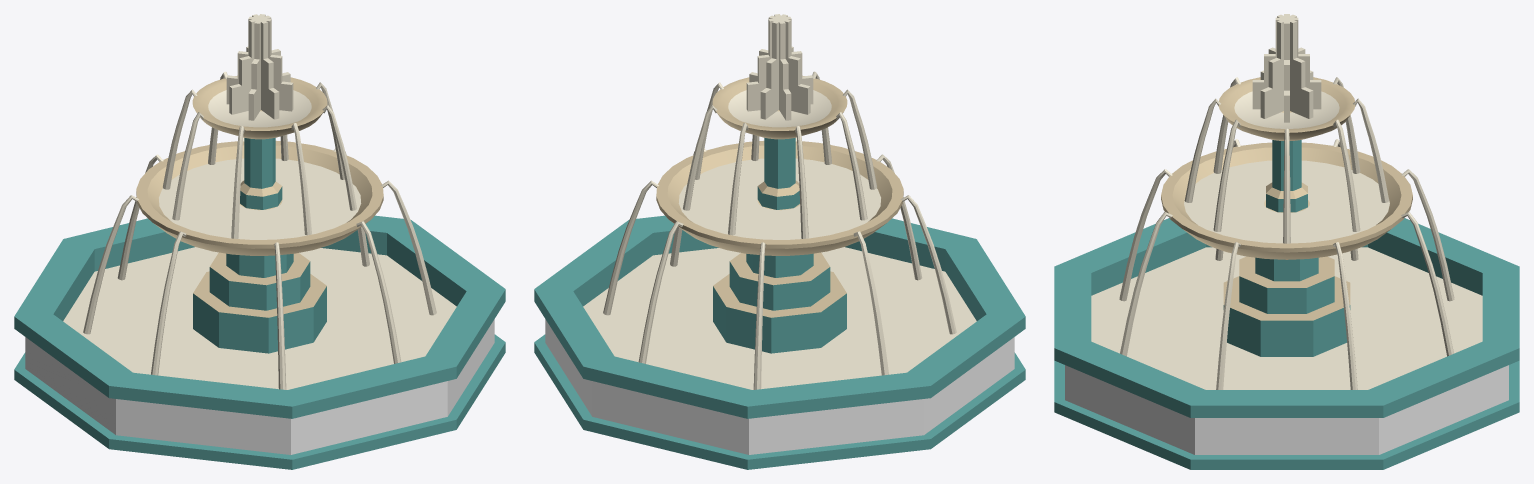
Rendered from KC32__AD_Ext_Fountain.glb.
3 renders of one model, left to right at view 1: azimuth 30°, elevation 25°; view 2: azimuth 150°, elevation 25°; view 3: azimuth 270°, elevation 25°, orthographic.
Visible parts, largest first — view 1: KC32_LUMIERE__AD_Ext_Fountain, KC32_CORPS__AD_Ext_Fountain, KC32_ACCENT__AD_Ext_Fountain, KC32_BRONZE__AD_Ext_Fountain; view 2: KC32_LUMIERE__AD_Ext_Fountain, KC32_CORPS__AD_Ext_Fountain, KC32_ACCENT__AD_Ext_Fountain, KC32_BRONZE__AD_Ext_Fountain; view 3: KC32_LUMIERE__AD_Ext_Fountain, KC32_CORPS__AD_Ext_Fountain, KC32_ACCENT__AD_Ext_Fountain, KC32_BRONZE__AD_Ext_Fountain.
Boxes of the visible parts, left/top/right/bottom form: KC32_LUMIERE__AD_Ext_Fountain: left=63, top=14, right=456, bottom=389; KC32_CORPS__AD_Ext_Fountain: left=14, top=137, right=505, bottom=469; KC32_ACCENT__AD_Ext_Fountain: left=25, top=319, right=494, bottom=454; KC32_BRONZE__AD_Ext_Fountain: left=136, top=75, right=383, bottom=317; KC32_LUMIERE__AD_Ext_Fountain: left=583, top=14, right=976, bottom=389; KC32_CORPS__AD_Ext_Fountain: left=534, top=137, right=1025, bottom=469; KC32_ACCENT__AD_Ext_Fountain: left=545, top=319, right=1014, bottom=454; KC32_BRONZE__AD_Ext_Fountain: left=656, top=75, right=903, bottom=317; KC32_LUMIERE__AD_Ext_Fountain: left=1091, top=14, right=1482, bottom=389; KC32_CORPS__AD_Ext_Fountain: left=1054, top=140, right=1519, bottom=469; KC32_ACCENT__AD_Ext_Fountain: left=1065, top=365, right=1508, bottom=454; KC32_BRONZE__AD_Ext_Fountain: left=1161, top=77, right=1412, bottom=320.
Bounding box in the file's own units: 4.07 × 3.4 × 4.07.
